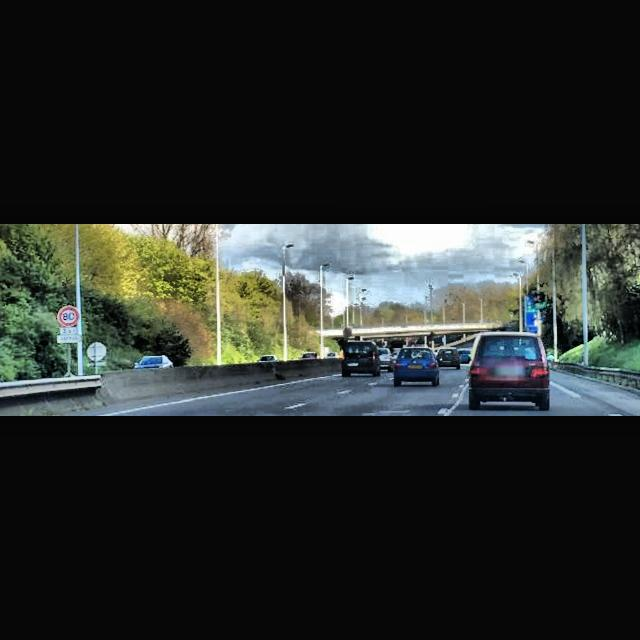speed_80: (59, 306, 79, 326)
